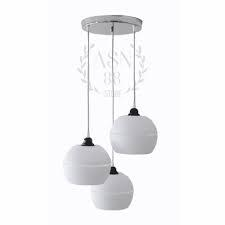Lamp: (89, 4, 136, 213), (61, 15, 112, 192), (108, 17, 163, 158)
